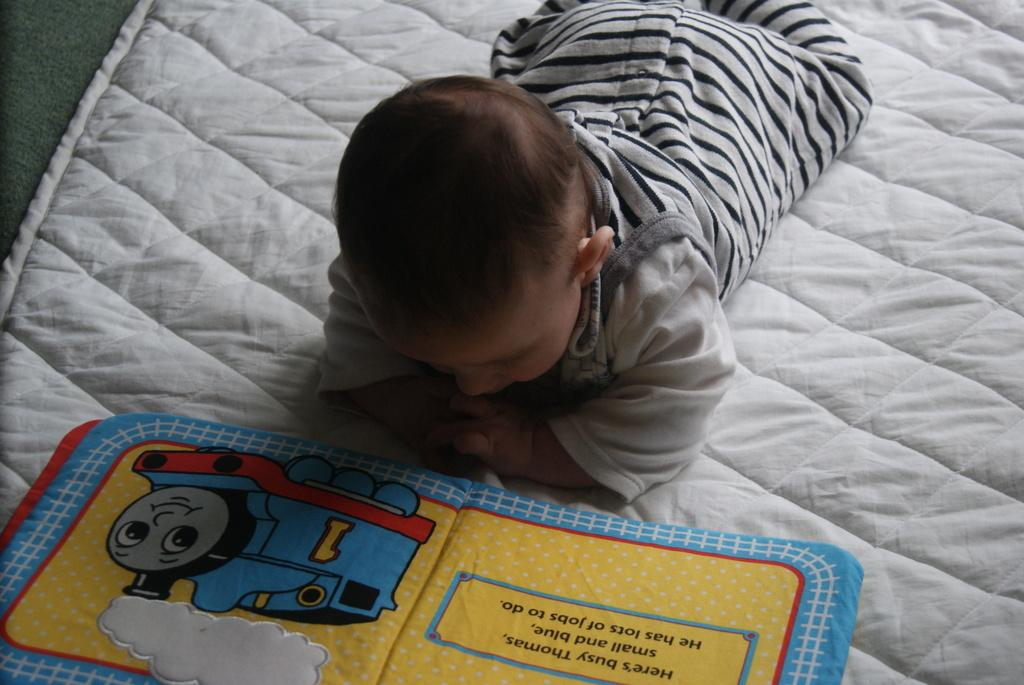Sem Máscara: (396, 319, 593, 413)
